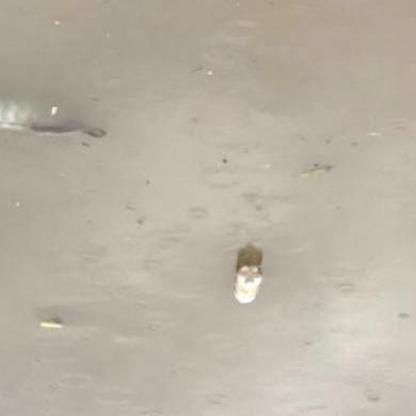plastic bottle: (234, 266, 262, 304)
